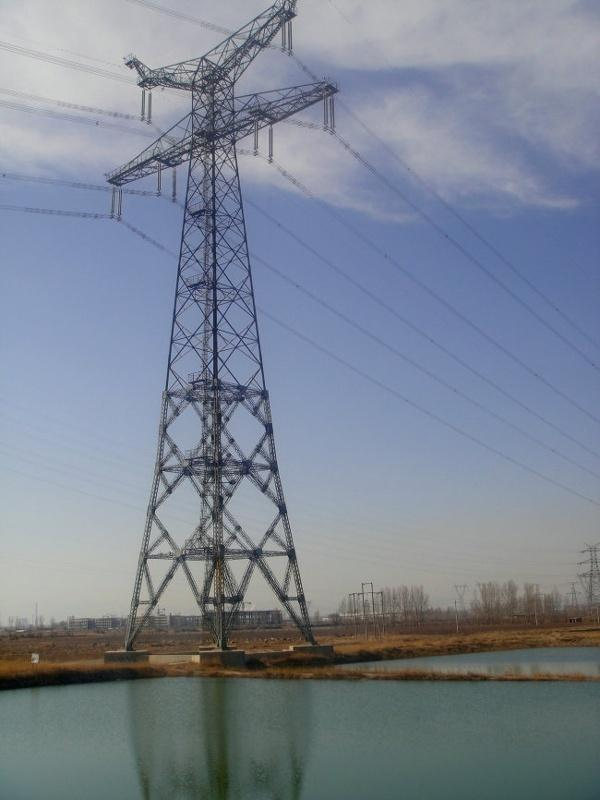power_tower: (77, 4, 340, 659)
